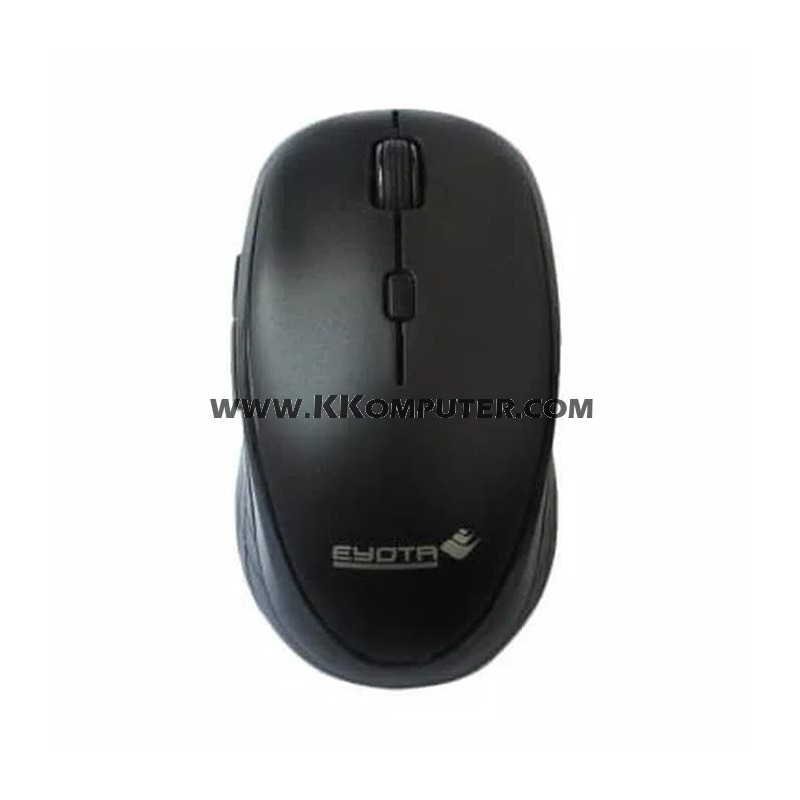Mouse: (221, 99, 572, 701)
